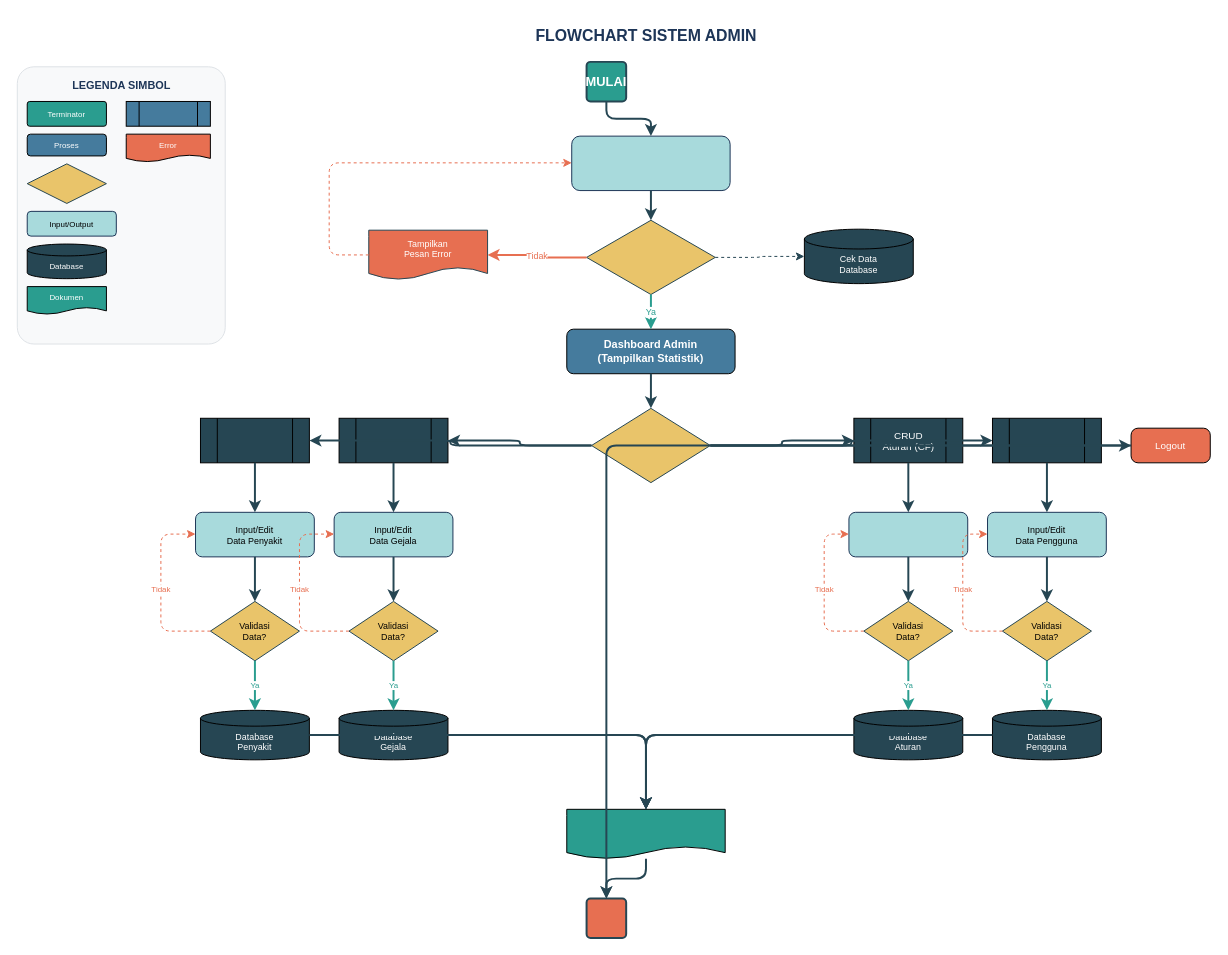
Some shapes in this 1228 by 955 pixel diagram are drawn without their labels. Each missing label, with the centre of its shape:
"CRUD Gejala" goes at (x=393, y=440).
"CRUD Pengguna" goes at (x=1046, y=440).
"CRUD Penyakit" goes at (x=254, y=440).
"Input Username & Password" goes at (x=650, y=163).
"Input/Edit Data Aturan" goes at (x=908, y=534).
"Keputusan" goes at (x=66, y=183).
"Login Valid?" goes at (x=650, y=257).
"Pilih Menu?" goes at (x=650, y=445).
"SELESAI" goes at (x=606, y=918).
"Sub-Proses" goes at (x=167, y=113).
"Tampilkan Konfirmasi Berhasil" goes at (x=645, y=833).
